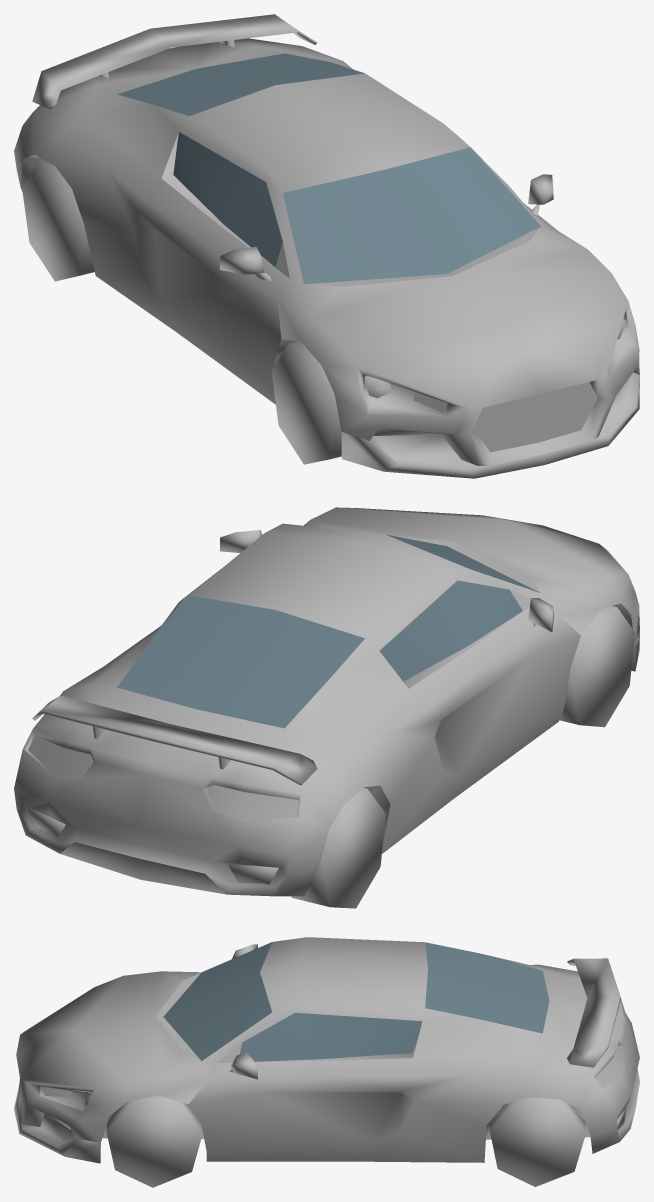
File: Car_1_LOD2.FBX
3 renders of one model, top to bottom at view 1: azimuth 30°, elevation 25°; view 2: azimuth 150°, elevation 25°; view 3: azimuth 270°, elevation 25°, orthographic. The views are drawn at different scales.
Visible parts, largest first — view 1: Body_1_LOD2, Glass_1_LOD2, Matte_1_LOD2, Wheel_R_LOD2, Wheel_Back_R_LOD2; view 2: Body_1_LOD2, Glass_1_LOD2, Matte_1_LOD2, Wheel_R_LOD2, Wheel_Back_R_LOD2, Taillights_1_LOD2; view 3: Body_1_LOD2, Glass_1_LOD2, Matte_1_LOD2, Wheel_L_LOD2, Wheel_Back_L_LOD2, Taillights_1_LOD2.
Part boxes in pixels (<box>): Body_1_LOD2: <box>14,38,639,465</box>; Glass_1_LOD2: <box>117,53,540,284</box>; Matte_1_LOD2: <box>20,14,639,478</box>; Wheel_R_LOD2: <box>271,341,341,464</box>; Wheel_Back_R_LOD2: <box>22,159,94,281</box>; Body_1_LOD2: <box>14,507,639,896</box>; Glass_1_LOD2: <box>117,534,539,728</box>; Matte_1_LOD2: <box>26,530,639,894</box>; Wheel_R_LOD2: <box>559,606,634,727</box>; Wheel_Back_R_LOD2: <box>291,788,385,908</box>; Taillights_1_LOD2: <box>28,736,298,821</box>; Body_1_LOD2: <box>16,937,639,1162</box>; Glass_1_LOD2: <box>163,942,549,1061</box>; Matte_1_LOD2: <box>14,944,626,1163</box>; Wheel_L_LOD2: <box>106,1095,202,1187</box>; Wheel_Back_L_LOD2: <box>489,1097,585,1186</box>; Taillights_1_LOD2: <box>595,1045,625,1088</box>.
Size of the model in its own units: 2.08 by 1.3 by 4.42.
